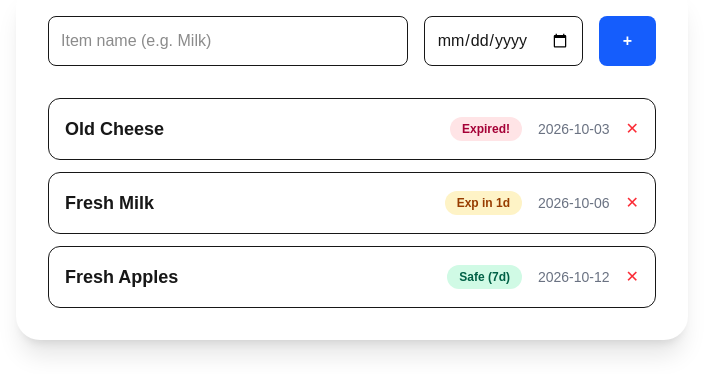
Test: Fridge Component › should delete item when delete button is clicked
Expected: the text "Old Cheese" is shown, [65,115,164,143]
Note: First item is Old Cheese
Click the button "✕" next to "2026-10-03".
click(632, 129)  # box [626,117,639,141]
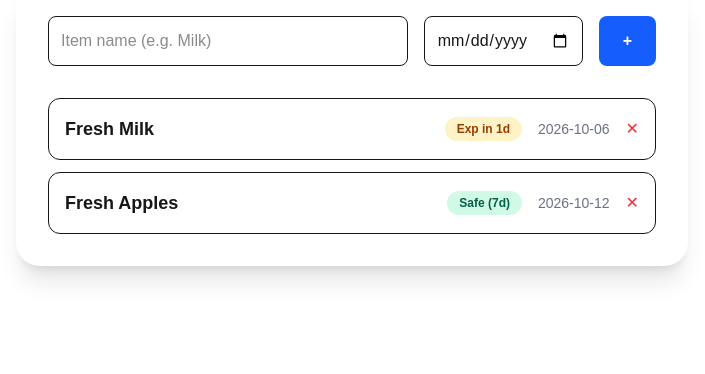
Expected: the text "Old Cheese" is gone
